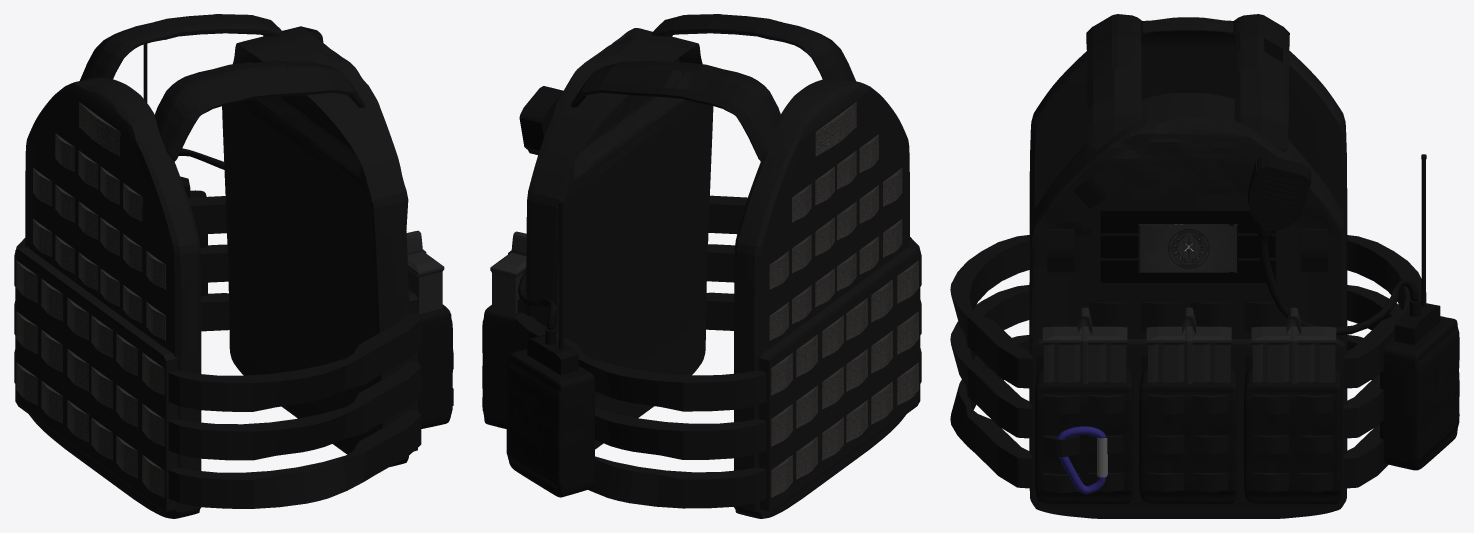
The model's file is Tactical Vest NO TEXTURES.fbx.
The picture shows the model from 3 angles, left to right: view 1: azimuth 30°, elevation 25°; view 2: azimuth 150°, elevation 25°; view 3: azimuth 270°, elevation 25°; orthographic projection. The views are drawn at different scales.
Visible parts, largest first — view 1: Main Vest, Cylinder.014, Cube.029, Cube.074, Cube.031, Cube.046, Cube.050, Pouch 1, MAgs, Cube.072; view 2: Main Vest, Cube.029, Cylinder.014, Cube.074, Cube.031, Cube.046, Pouch 1.003, Cube.050, Pouch 1, Cube.073, MAgs, Cube.060 (+3 smaller); view 3: Main Vest, Cylinder.014, Pouch 1, Cube.029, MAgs, Cube.031, Cube.061, Pouch 1.003, Cube.024, Cube.014, Cube.001, Cube.056 (+9 smaller).
Boxes of the visible parts, bbox=[...] form: Main Vest: bbox=[222, 27, 409, 466]; Cylinder.014: bbox=[14, 196, 421, 508]; Cube.029: bbox=[25, 77, 201, 518]; Cube.074: bbox=[15, 247, 177, 512]; Cube.031: bbox=[80, 14, 364, 161]; Cube.046: bbox=[16, 260, 164, 497]; Cube.050: bbox=[33, 133, 165, 340]; Pouch 1: bbox=[418, 304, 452, 428]; MAgs: bbox=[407, 251, 444, 314]; Cube.072: bbox=[79, 102, 120, 156]; Main Vest: bbox=[526, 28, 713, 449]; Cube.029: bbox=[734, 78, 909, 518]; Cylinder.014: bbox=[514, 195, 921, 508]; Cube.074: bbox=[759, 247, 920, 512]; Cube.031: bbox=[571, 14, 855, 161]; Cube.046: bbox=[771, 260, 918, 497]; Pouch 1.003: bbox=[506, 349, 594, 497]; Cube.050: bbox=[769, 134, 902, 340]; Pouch 1: bbox=[482, 305, 517, 428]; Cube.073: bbox=[519, 86, 563, 154]; MAgs: bbox=[490, 252, 526, 314]; Cube.060: bbox=[527, 334, 578, 375]; Main Vest: bbox=[1029, 93, 1347, 518]; Cylinder.014: bbox=[950, 235, 1421, 488]; Pouch 1: bbox=[1035, 368, 1342, 503]; Cube.029: bbox=[1029, 17, 1347, 324]; MAgs: bbox=[1042, 326, 1336, 382]; Cube.031: bbox=[1086, 14, 1289, 152]; Cube.061: bbox=[1043, 394, 1332, 492]; Pouch 1.003: bbox=[1380, 316, 1459, 470]; Cube.024: bbox=[1100, 211, 1275, 282]; Cube.014: bbox=[1036, 302, 1340, 489]; Cube.001: bbox=[1032, 339, 1343, 505]; Cube.056: bbox=[1138, 224, 1237, 272].
Bounding box in the file's own units: 131 × 167 × 185.
30 materials, 4 textured.
